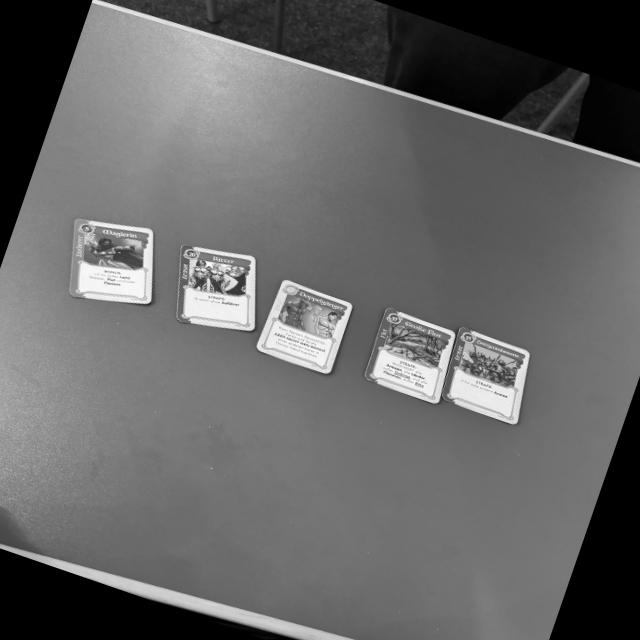Doppelganger: (254, 277, 352, 376)
Dwarvish Infantry: (440, 326, 530, 425)
Elemental Enchantress: (68, 217, 154, 306)
Great Flood: (363, 305, 454, 406)
Knights: (175, 244, 253, 331)
